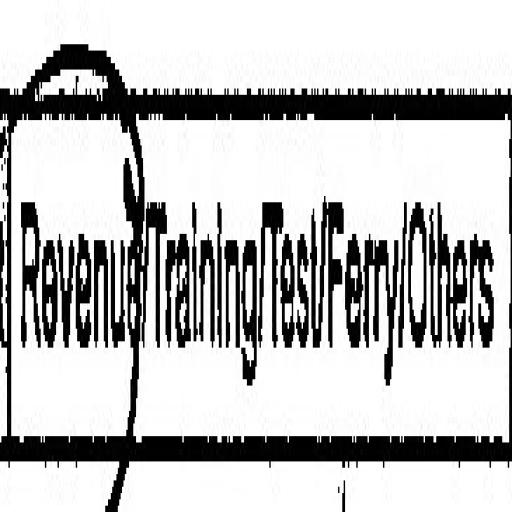check: (9, 0, 144, 512)
